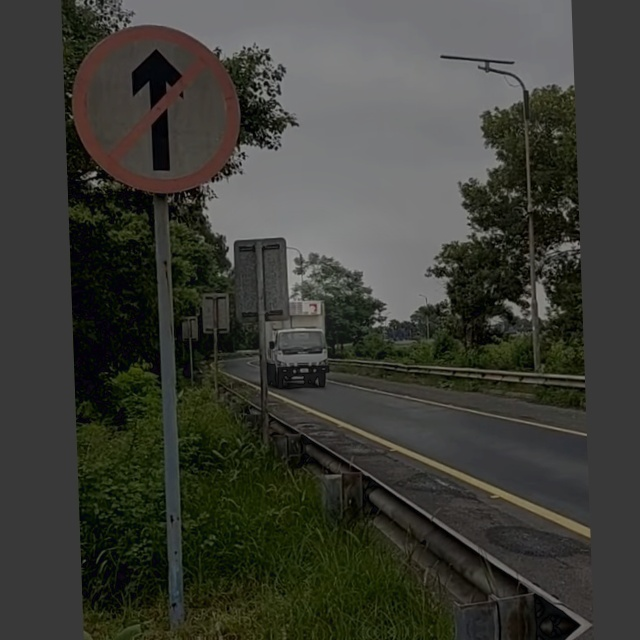No_Entry: (72, 24, 244, 192)
